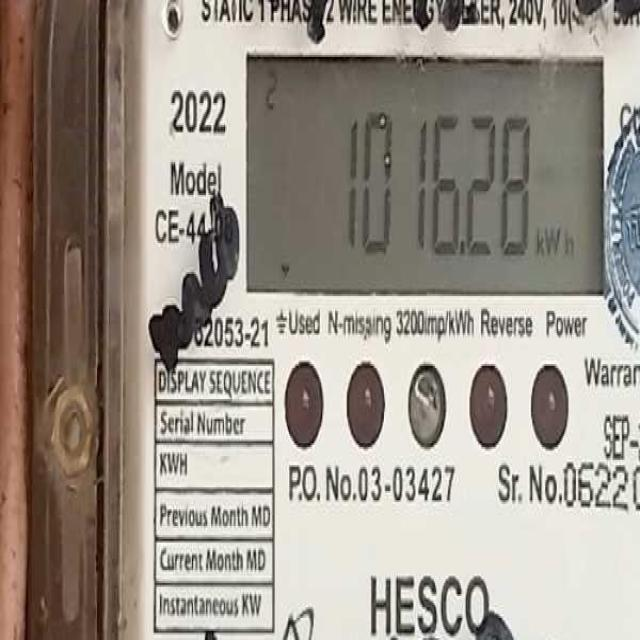1: (414, 115, 430, 253), (347, 117, 361, 251)
2: (464, 116, 498, 256)
6: (432, 109, 461, 254)
8: (500, 109, 535, 260)
Digital meter: (244, 54, 602, 298)
point: (460, 238, 470, 261)
